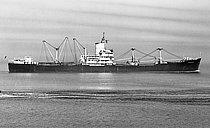Ship: (4, 33, 206, 77)
